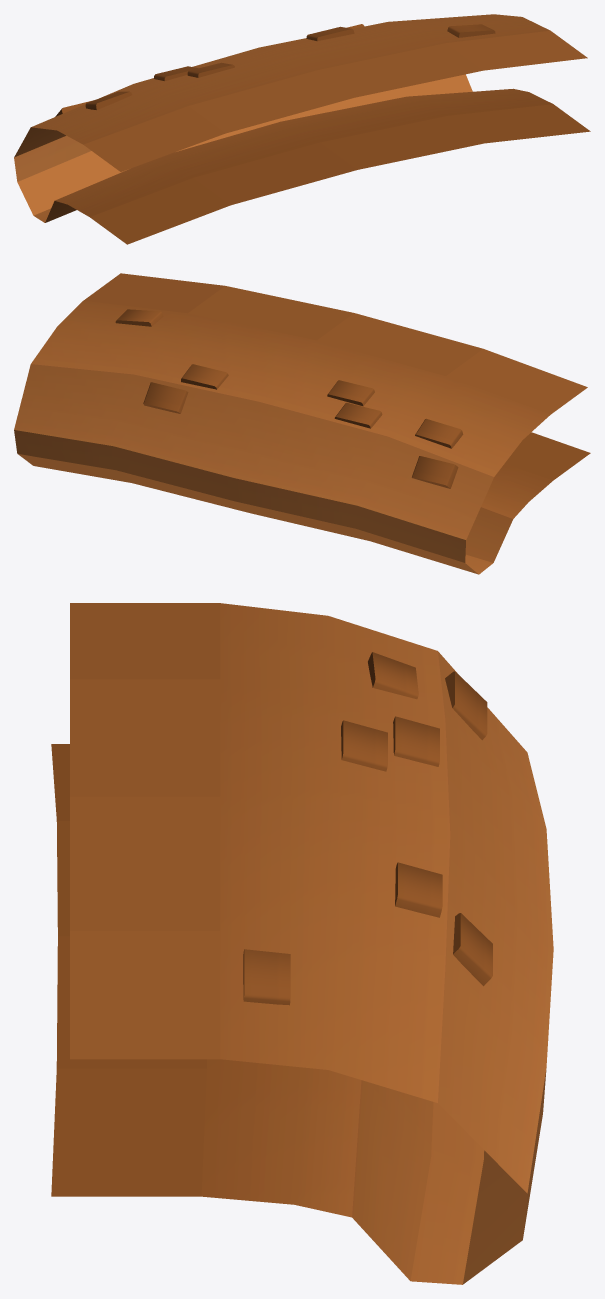
The model's file is Border Wall 01.FBX.
The picture shows the model from 3 angles, top to bottom: view 1: azimuth 30°, elevation 25°; view 2: azimuth 150°, elevation 25°; view 3: azimuth 270°, elevation 25°; orthographic projection. The views are drawn at different scales.
Parts seen in each view (by area): view 1: Border Wall 01; view 2: Border Wall 01; view 3: Border Wall 01.
Boxes of the visible parts, left/top/right/bottom form: Border Wall 01: left=14, top=14, right=590, bottom=244; Border Wall 01: left=14, top=273, right=590, bottom=574; Border Wall 01: left=51, top=603, right=553, bottom=1284.
Size of the model in its own units: 859 by 238 by 400.
Materials: 1 (1 with a texture image).
